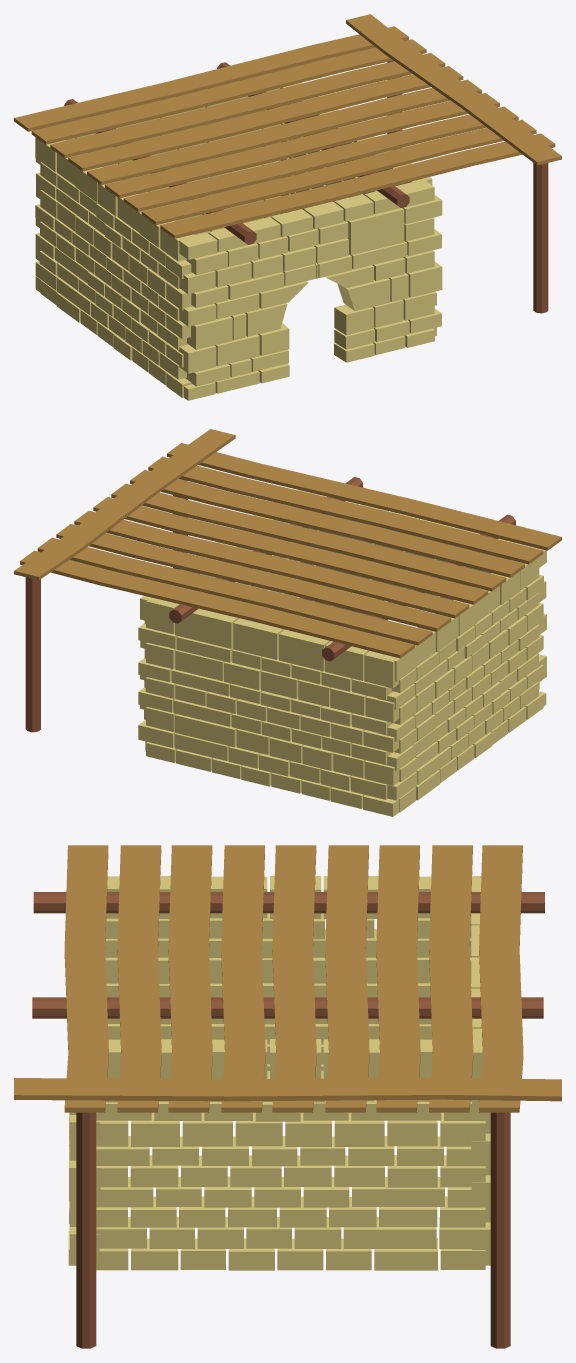
File: HuisjeDion.fbx
3 renders of one model, top to bottom at view 1: azimuth 30°, elevation 25°; view 2: azimuth 150°, elevation 25°; view 3: azimuth 270°, elevation 25°, orthographic. The views are drawn at different scales.
Visible parts, largest first — view 1: Cube, Wall.001, Circle.001; view 2: Wall.001, Cube, Circle.001; view 3: Cube, Wall.001, Circle.001.
Boxes of the visible parts, box(x1,y1,x2,y2) form: Cube: box(14, 14, 561, 238); Wall.001: box(35, 82, 442, 400); Circle.001: box(64, 60, 548, 313); Wall.001: box(138, 490, 546, 816); Cube: box(14, 429, 561, 658); Circle.001: box(25, 477, 515, 732); Cube: box(14, 845, 561, 1112); Wall.001: box(68, 876, 490, 1270); Circle.001: box(32, 892, 544, 1348).
Size of the model in its own units: 3064 by 1341 by 2704.
1 material, 1 textured.
